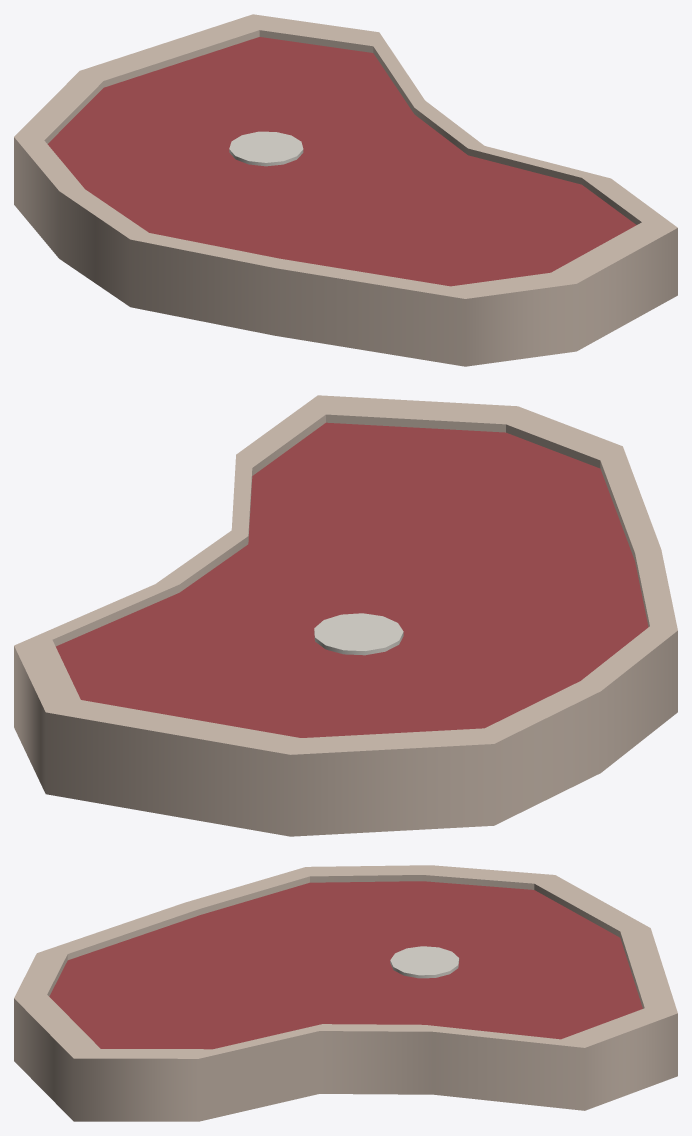
Rendered from MinotaurSteak.fbx.
3 views of the same model, one above another, from view 1: azimuth 30°, elevation 25°; view 2: azimuth 150°, elevation 25°; view 3: azimuth 270°, elevation 25° (orthographic). The views are drawn at different scales.
Visible parts, largest first — view 1: MinotaurSteak; view 2: MinotaurSteak; view 3: MinotaurSteak.
Part boxes in pixels (bbox=[...]): MinotaurSteak: bbox=[14, 14, 677, 366]; MinotaurSteak: bbox=[14, 395, 677, 836]; MinotaurSteak: bbox=[14, 865, 677, 1121].
Bounding box in the file's own units: 66 × 10 × 95.63.
